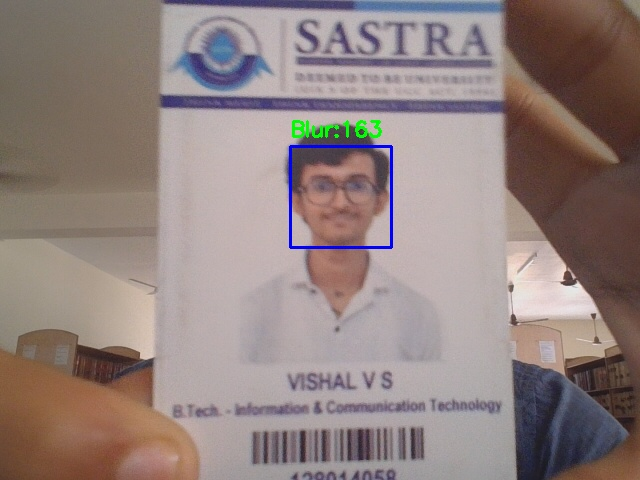fake: (290, 146, 391, 247)
